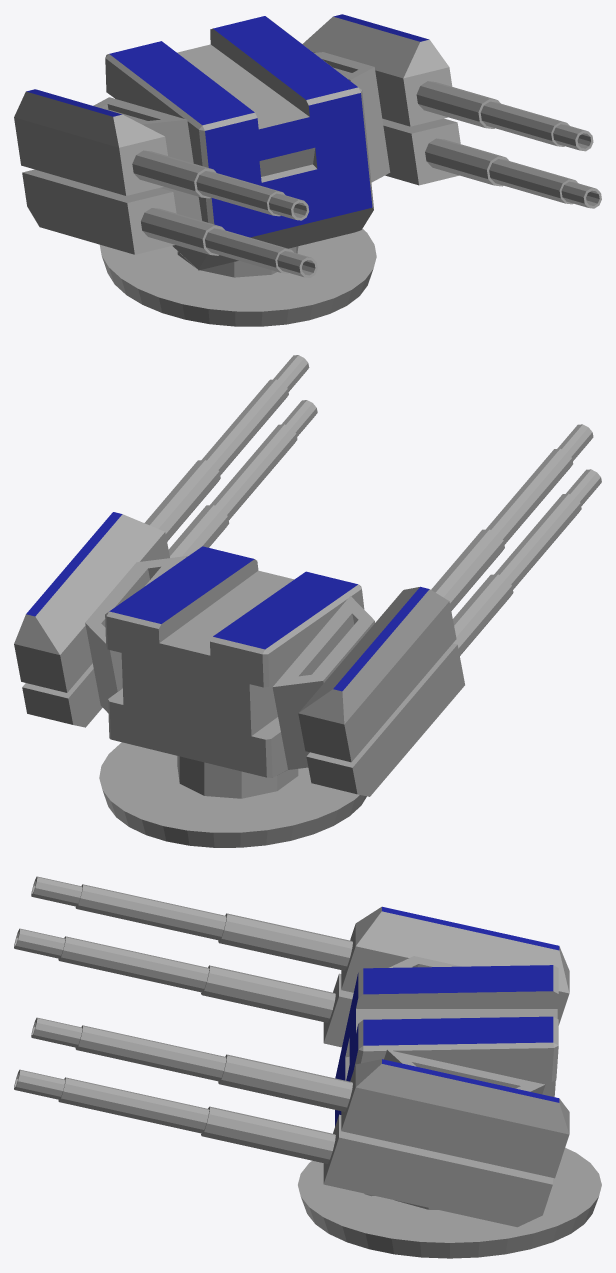
Rendered from turret.fbx.
3 views of the same model, one above another, from view 1: azimuth 30°, elevation 25°; view 2: azimuth 150°, elevation 25°; view 3: azimuth 270°, elevation 25° (orthographic).
Parts seen in each view (by area): view 1: cannon 02; view 2: cannon 02; view 3: cannon 02.
Part boxes in pixels (bbox=[...]): cannon 02: bbox=[14, 14, 601, 326]; cannon 02: bbox=[14, 355, 601, 847]; cannon 02: bbox=[14, 876, 601, 1258].
Bounding box in the file's own units: 311 × 226 × 471.
